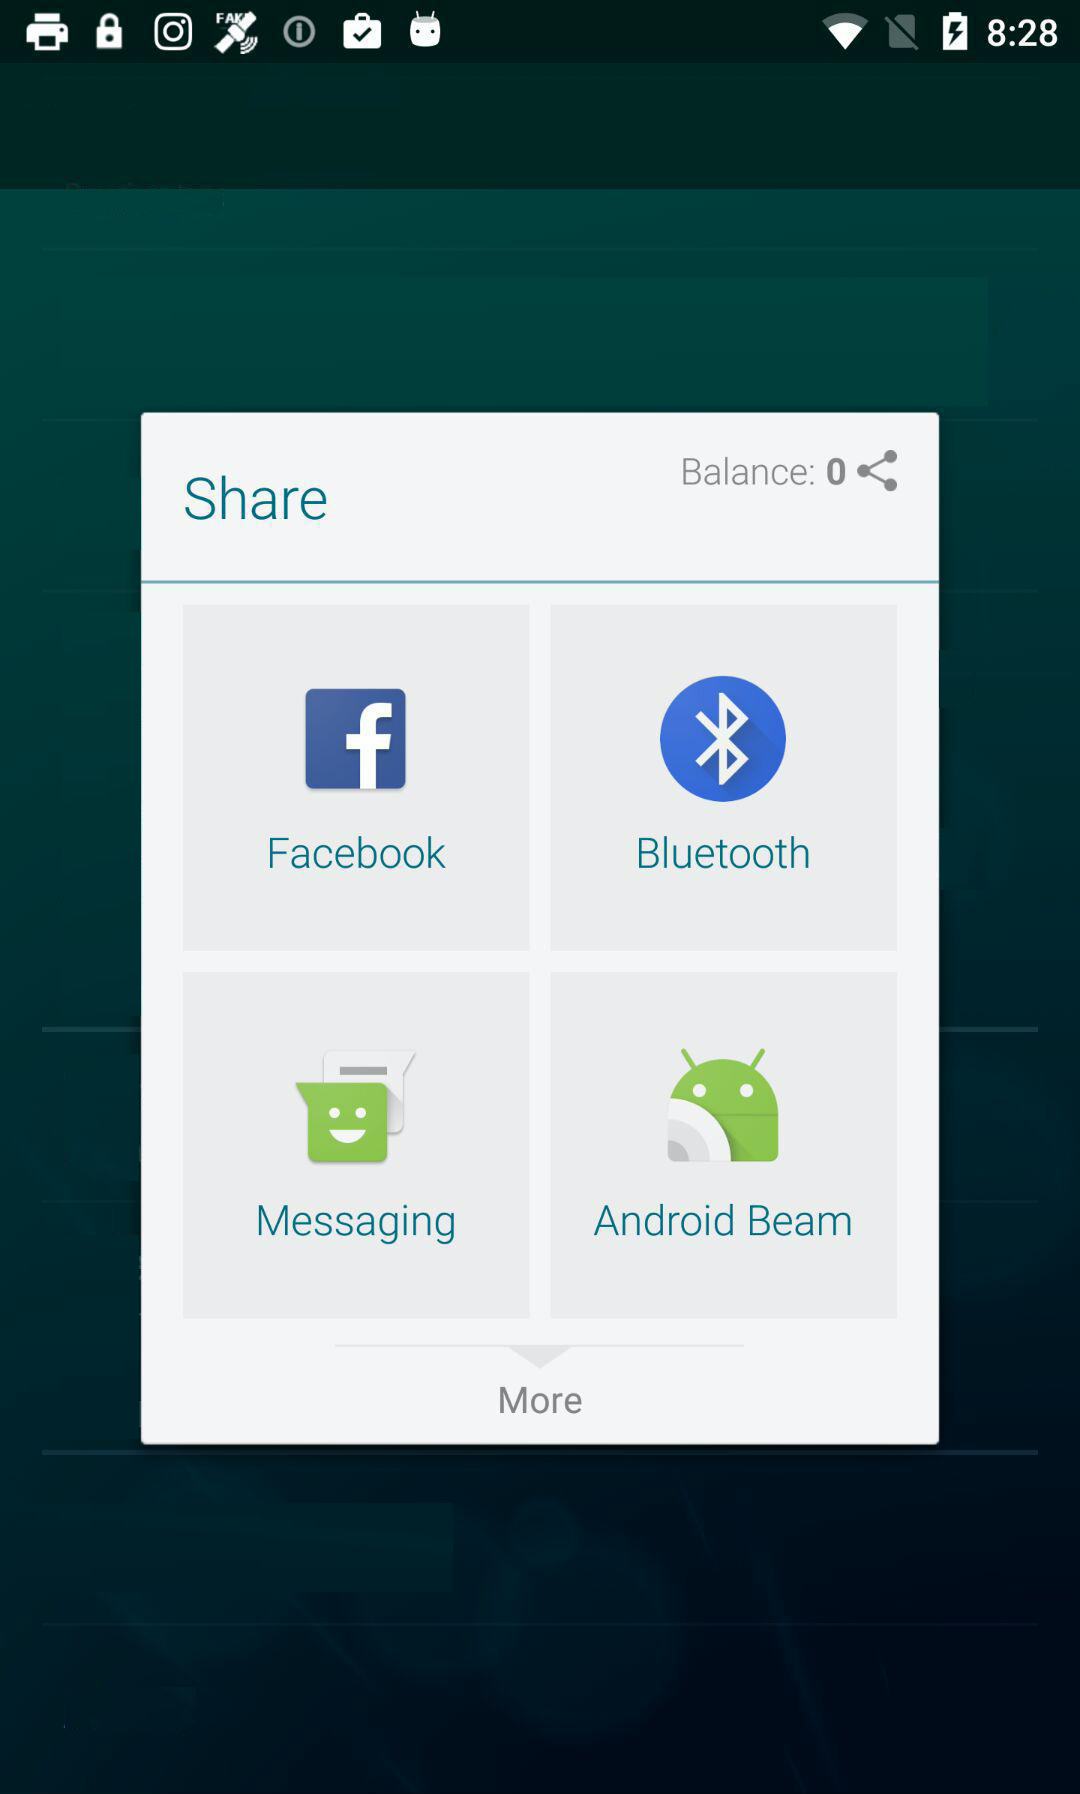Icon: (660, 675, 787, 803), (305, 689, 407, 791), (856, 448, 899, 492)
Image: (295, 1048, 419, 1165), (667, 1047, 780, 1164)
Modal: (141, 413, 939, 1445)
Text: (593, 1202, 852, 1238), (258, 1202, 456, 1246), (269, 834, 448, 871), (184, 475, 328, 522), (638, 835, 810, 870), (682, 456, 815, 487), (826, 457, 847, 487)
TextButton: (142, 1345, 939, 1445)
UpperTaskBar: (1, 1, 1080, 64)
